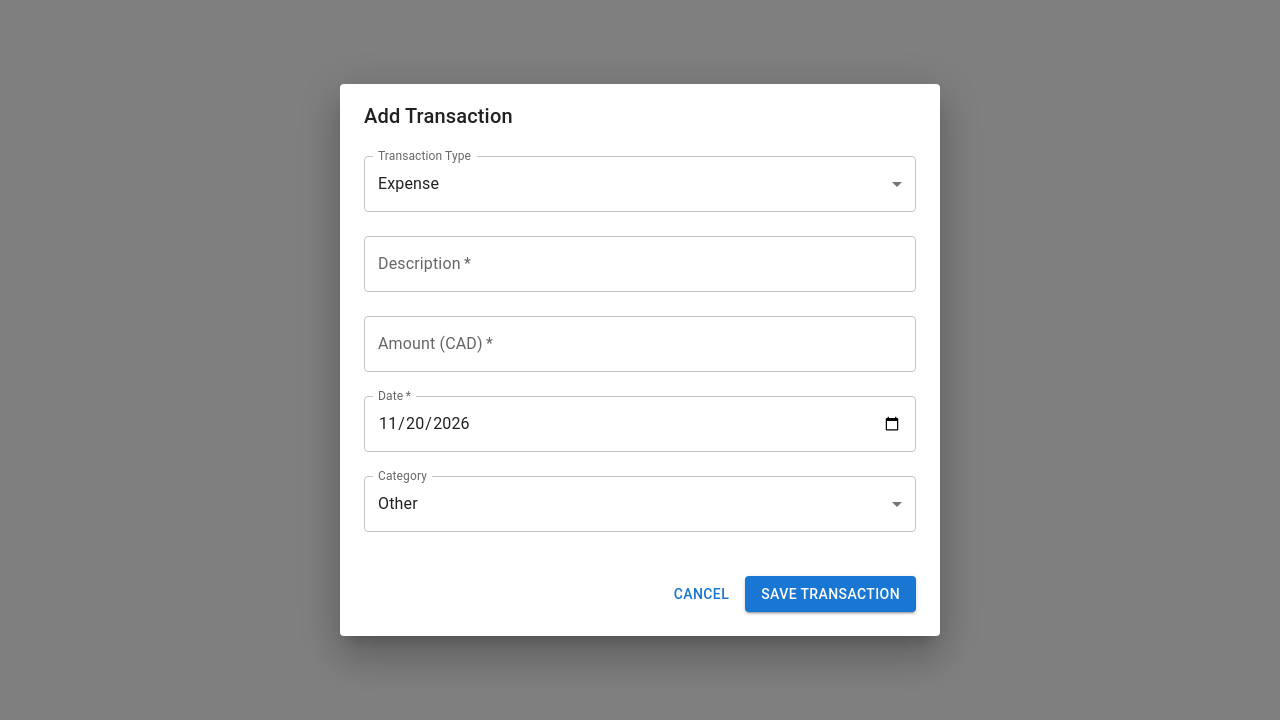
Test: TransactionForm validation › rejects amounts with more than two decimals
Type "Coffee" into the field labelled "Description *" at (640, 264), box [364,236,916,292]
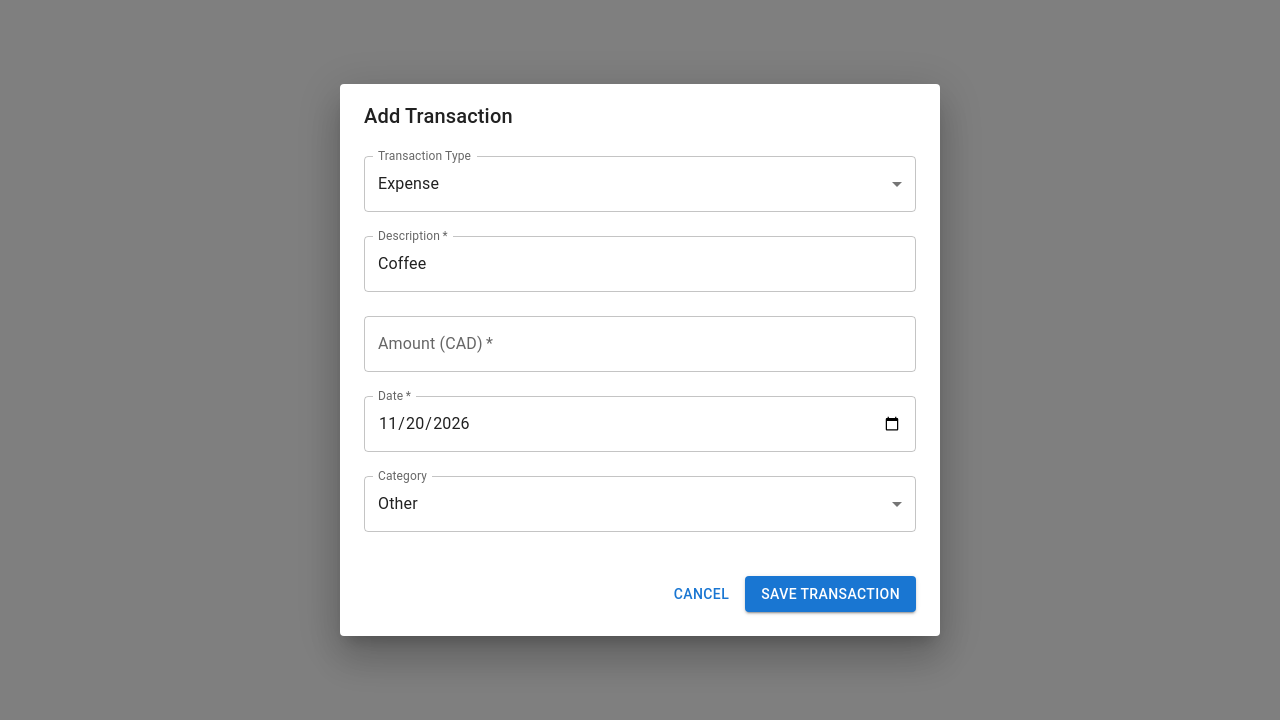
Type "12.345" into the number field labelled "Amount (CAD) *" at (640, 344), box [364,316,916,372]
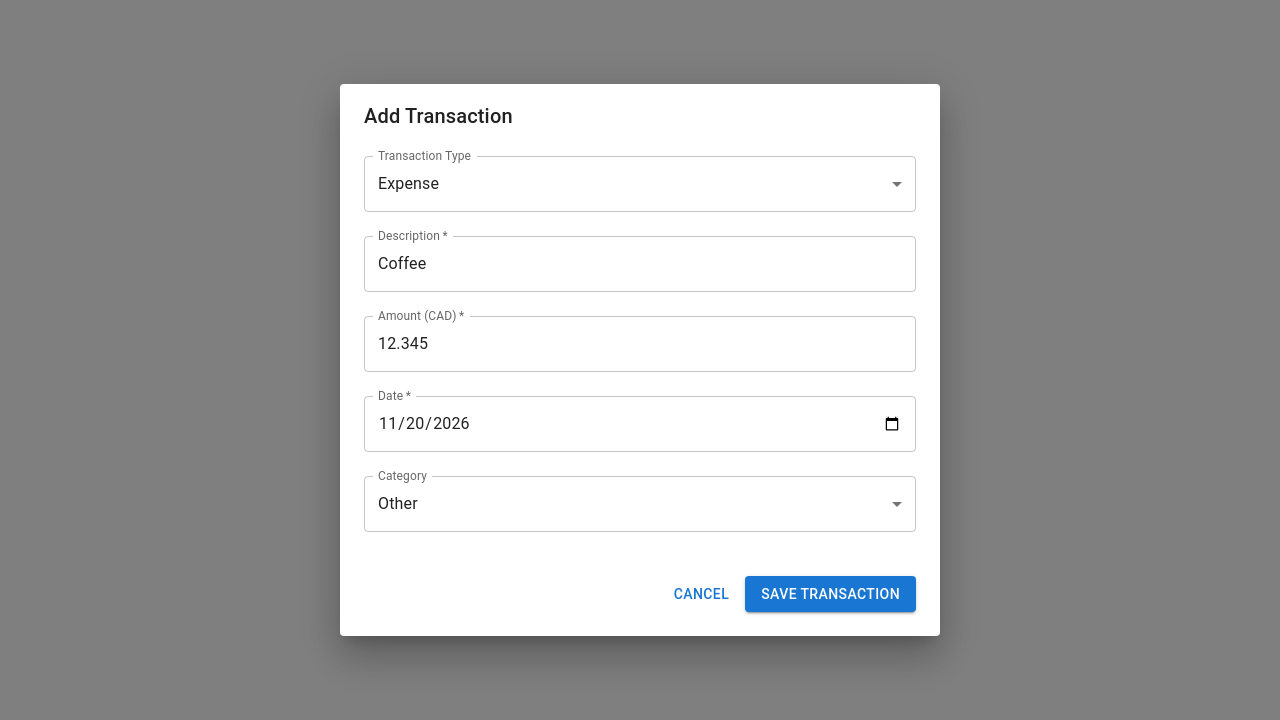
Submit the form named "Save Transaction", box [340,84,940,636]
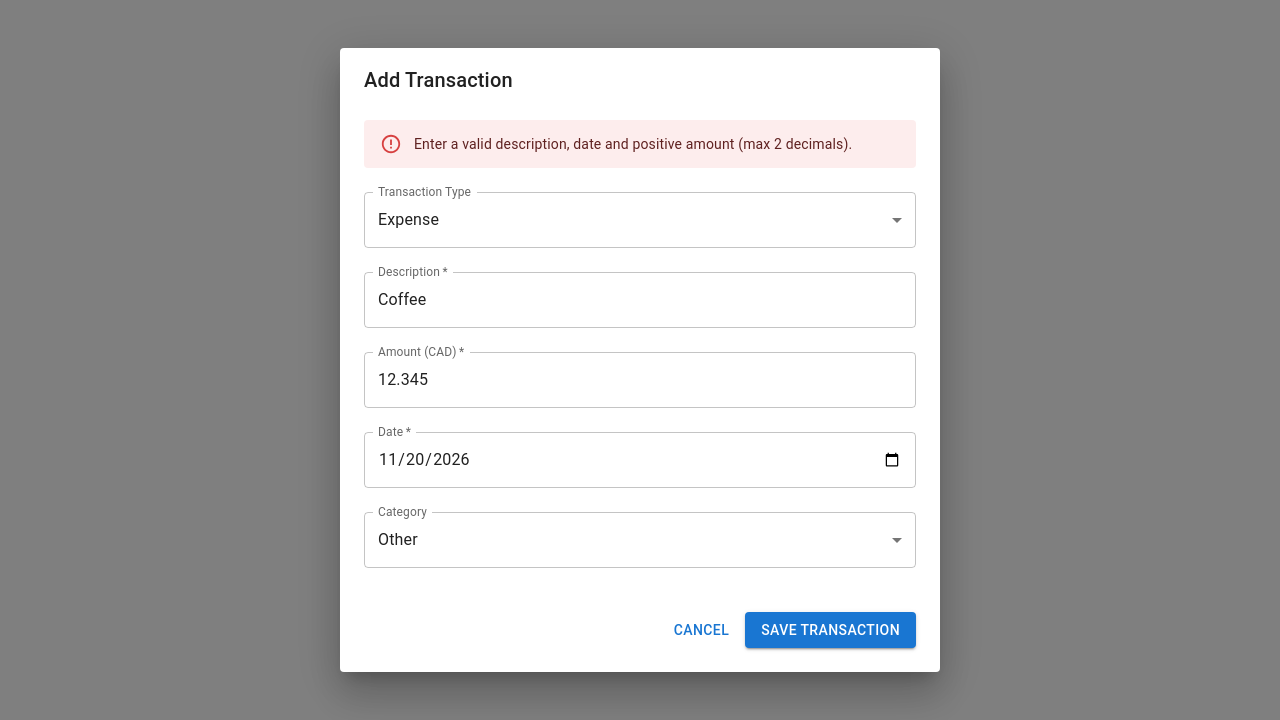
Check: the text "Enter a valid description" is shown, box [414,136,852,152]
